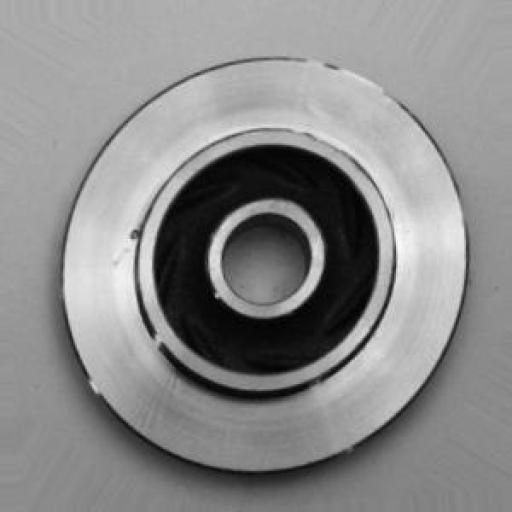defect: (102, 182, 160, 292)
